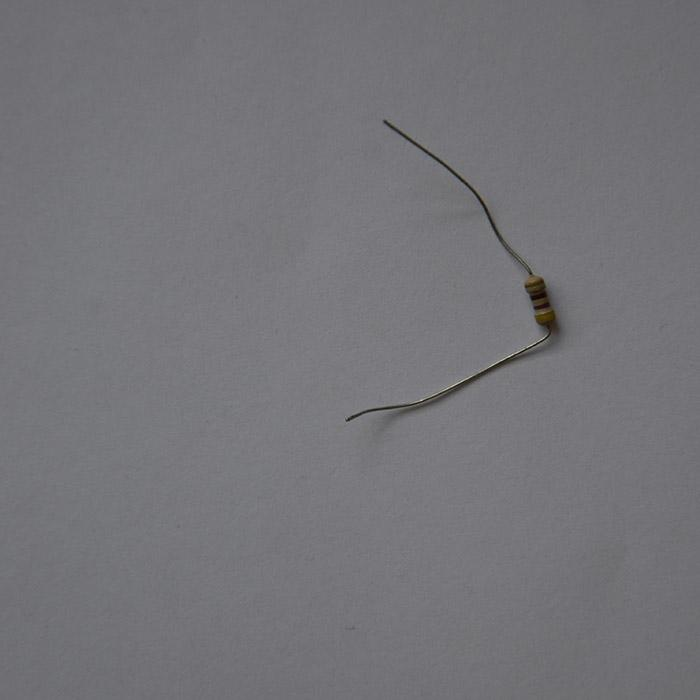resistor: (524, 273, 554, 323)
